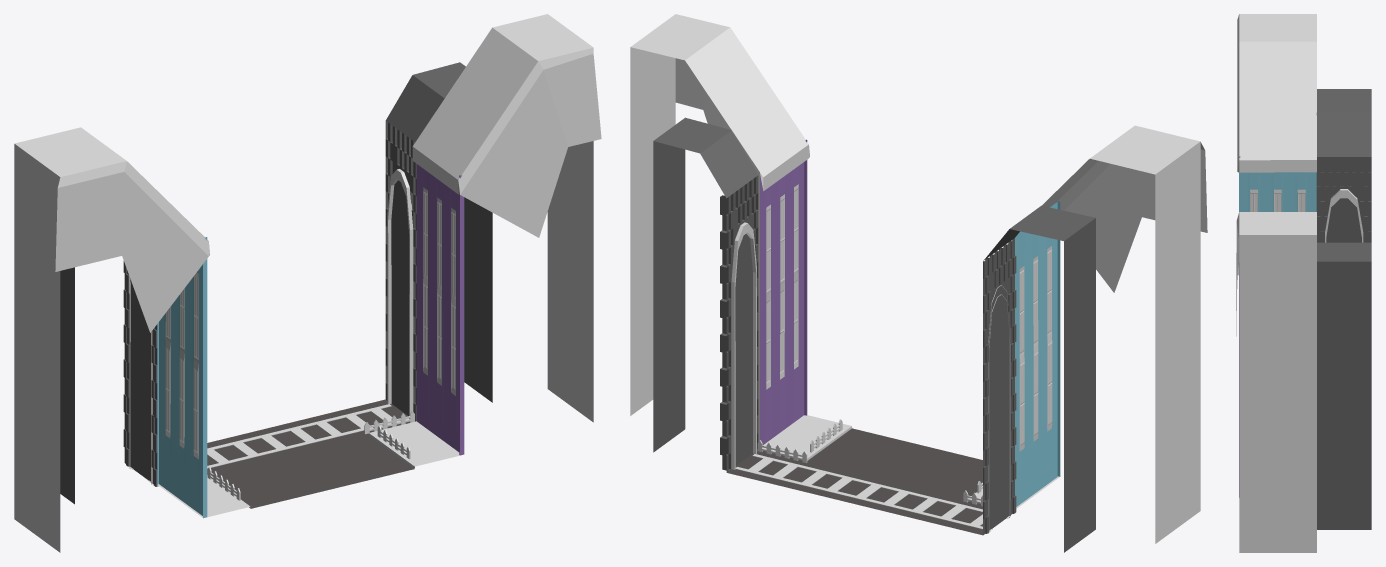
The model's file is RUATileTrem 1.fbx.
3 views of the same model, side by side, from view 1: azimuth 30°, elevation 25°; view 2: azimuth 150°, elevation 25°; view 3: azimuth 270°, elevation 25° (orthographic). The views are drawn at different scales.
Visible parts, largest first — view 1: RUATileTrem; view 2: RUATileTrem; view 3: RUATileTrem.
Part boxes in pixels (box(x1,y1,x2,y2)): RUATileTrem: box(14, 14, 601, 552); RUATileTrem: box(630, 14, 1207, 552); RUATileTrem: box(1236, 14, 1371, 552).
Bounding box in the file's own units: 2504 × 1666 × 636.
